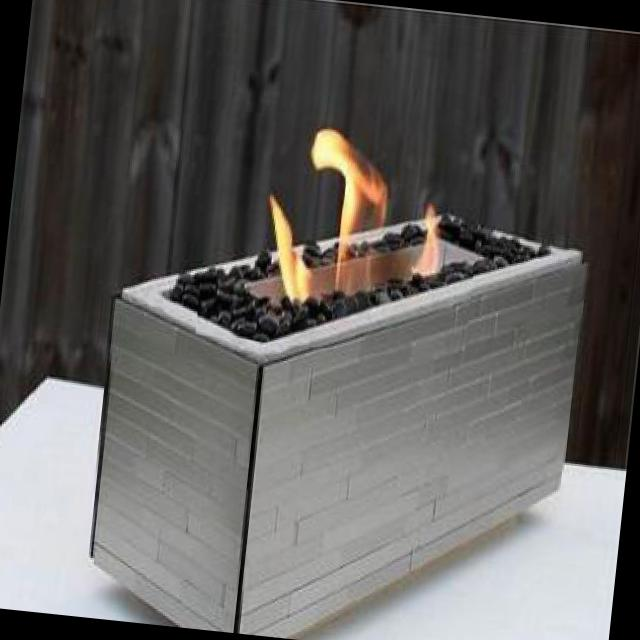fire: (195, 108, 487, 362)
